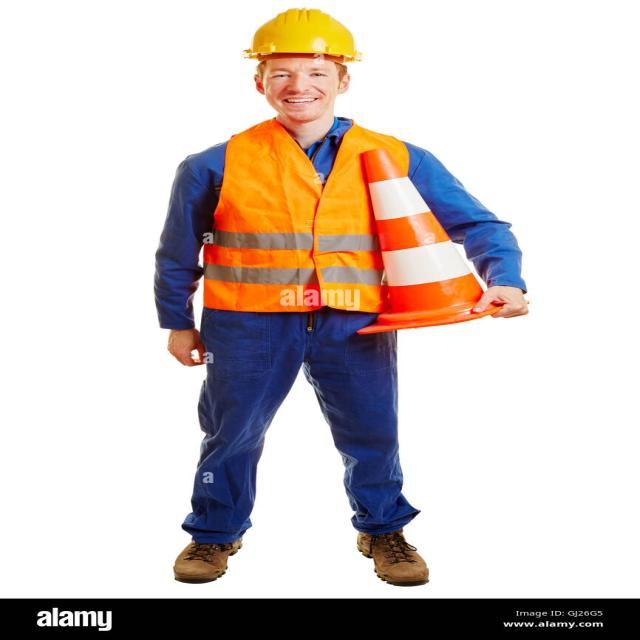helmet: (221, 0, 393, 63)
no-goggles: (253, 68, 347, 86)
vest: (151, 121, 425, 316)
